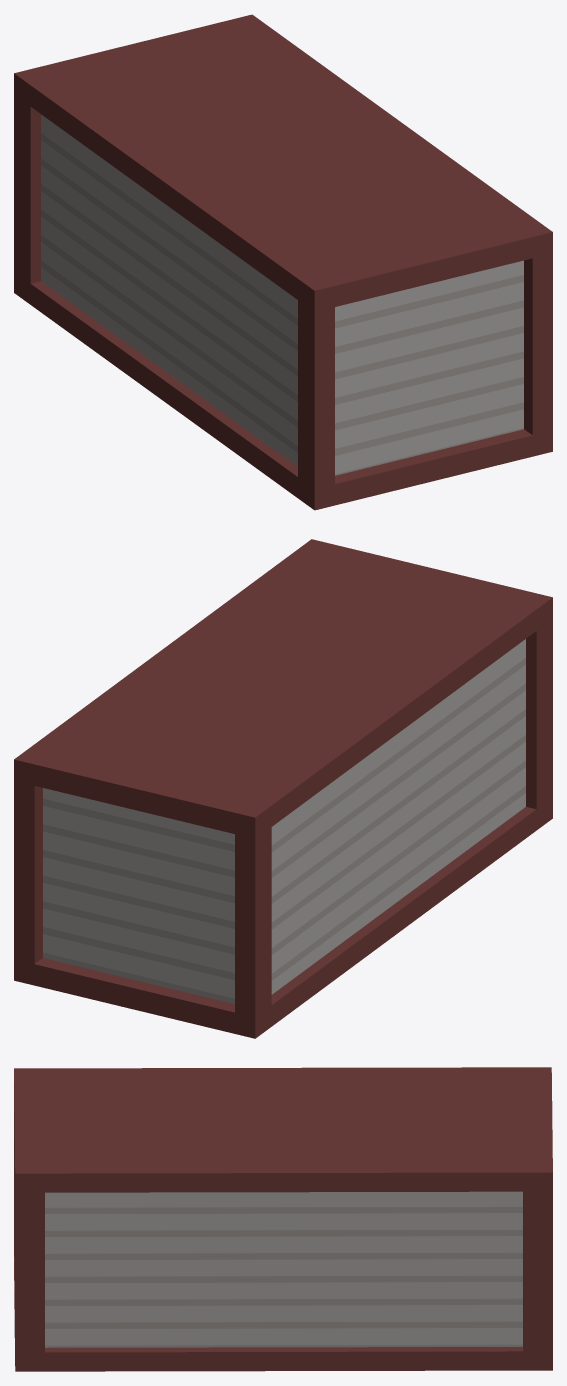
The model's file is RedMetalDecorationLargeContainer1.fbx.
The picture shows the model from 3 angles, top to bottom: view 1: azimuth 30°, elevation 25°; view 2: azimuth 150°, elevation 25°; view 3: azimuth 270°, elevation 25°; orthographic projection. The views are drawn at different scales.
Parts seen in each view (by area): view 1: RedMetalDecorationLargeContainer1; view 2: RedMetalDecorationLargeContainer1; view 3: RedMetalDecorationLargeContainer1.
Part boxes in pixels (<box>): RedMetalDecorationLargeContainer1: <box>14,14,552,510</box>; RedMetalDecorationLargeContainer1: <box>14,539,552,1038</box>; RedMetalDecorationLargeContainer1: <box>14,1067,552,1371</box>.
Bounding box in the file's own units: 462 × 401 × 990.
Materials: 2 (1 with a texture image).
